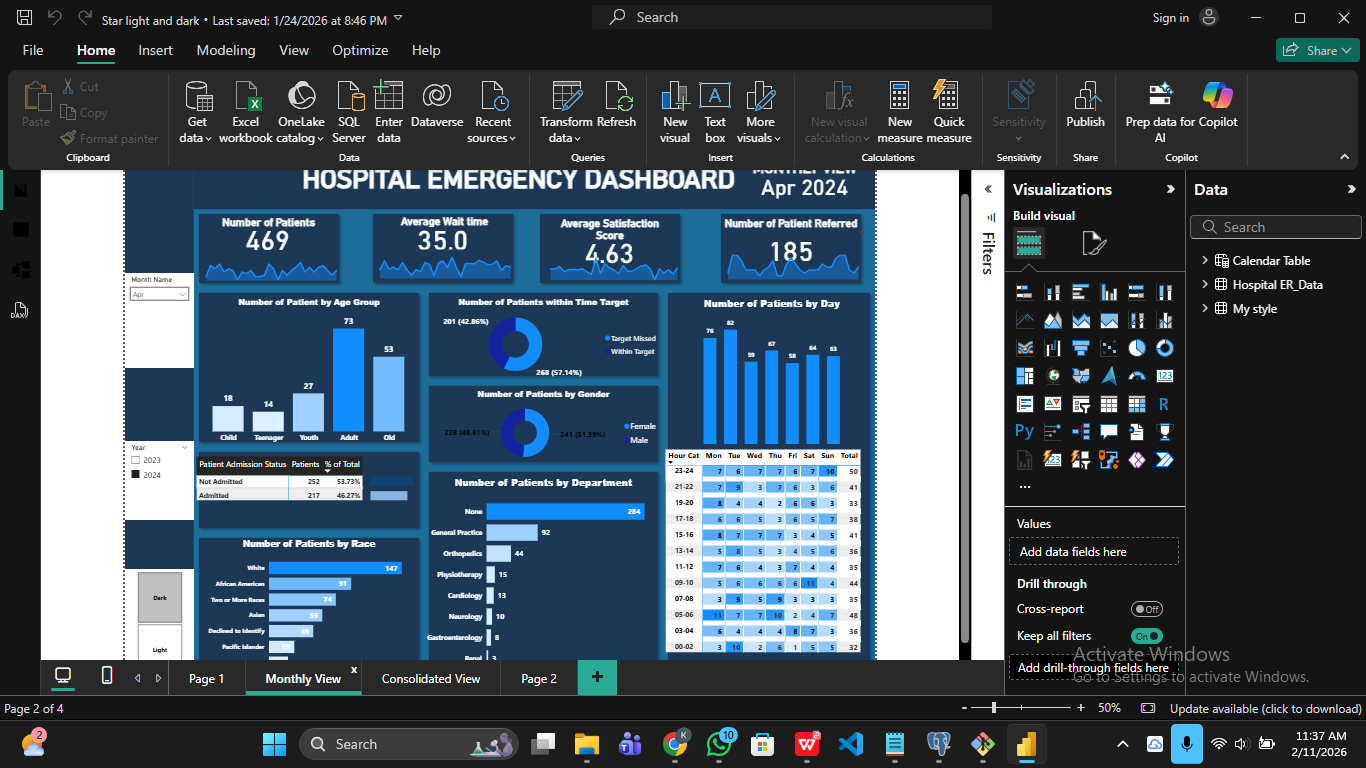

The dashboard page shown, as its layout file describes it:
{"tool":"powerbi","page":{"name":"Monthly View","canvas":[1500,1050],"ordinal":1},"visuals":[{"type":"shape","box":[0,0,1500,1050],"z":0},{"type":"shape","box":[0,0,137.5,1050],"z":1000},{"type":"shape","box":[137.5,0,1362.5,112.5],"z":2000},{"type":"shape","box":[137.5,112.5,300,157.5],"z":3000},{"type":"slicer","fields":{"Values":["My style.Mode"]},"box":[0,832.5,137.5,217.5],"z":4000},{"type":"shape","box":[485,112.5,300,157.5],"z":5000},{"type":"shape","box":[820,112.5,300,157.5],"z":6000},{"type":"shape","box":[1182.5,112.5,300,157.5],"z":7000},{"type":"shape","box":[138,270,460,318],"z":8000},{"type":"shape","box":[138,588,460,172],"z":9000},{"type":"shape","box":[138,760,460,290],"z":10000},{"type":"shape","box":[598,270,478,186],"z":11000},{"type":"shape","box":[598,456,478,172],"z":12000},{"type":"shape","box":[598,628,478,422],"z":13000},{"type":"shape","box":[1076,270,424,780],"z":14000},{"type":"textbox","title":"HOSPITAL EMERGENCY DASHBOARD","box":[350,20,960,75],"z":15000},{"type":"textbox","title":"Number of Patients","box":[175,125,222.5,27.5],"z":16000},{"type":"textbox","title":"Average Wait time","box":[527.5,123,222.5,27.5],"z":17000},{"type":"textbox","title":"Average Satisfaction Score","box":[838,128,264,52],"z":18000},{"type":"textbox","title":"Number of Patient Referred","box":[1182,128,300,40],"z":19000},{"type":"card","fields":{"Values":["Hospital ER_Data.No of Patients"]},"box":[190,138,190,61],"z":20000},{"type":"card","fields":{"Values":["Hospital ER_Data.Avg Waittime"]},"box":[542,138,186,60],"z":21000},{"type":"card","fields":{"Values":["Hospital ER_Data.Satisfaction Score"]},"box":[888,158,162,70],"z":22000},{"type":"card","fields":{"Values":["Hospital ER_Data.No of Patient Referred"]},"box":[1260,158,144,64],"z":23000},{"type":"columnChart","title":"Number of Patient by Age Group","fields":{"Category":["Hospital ER_Data.Age Group"],"Y":["Hospital ER_Data.No of Patient Referred"]},"box":[138,286,460,302],"z":24000},{"type":"pivotTable","fields":{"Rows":["Hospital ER_Data.Patient Admission Status"],"Values":["Hospital ER_Data.No of Patients","Divide(Hospital ER_Data.No of Patients, ScopedEval(Hospital ER_Data.No of Patients, []))"]},"box":[138,602,348,106],"z":25000},{"type":"barChart","fields":{"Category":["Hospital ER_Data.Patient Admission Status"],"Y":["Hospital ER_Data.No of Patients"]},"box":[486,619,112,96],"z":26000},{"type":"barChart","title":"Number of Patients by Department","fields":{"Y":["Hospital ER_Data.No of Patients"],"Category":["Hospital ER_Data.Department Referral"]},"box":[598,644,478,406],"z":27000},{"type":"donutChart","title":"Number of Patients within Time Target","fields":{"Category":["Hospital ER_Data.Timeliness"],"Y":["Hospital ER_Data.No of Patients"]},"box":[598,286,478,170],"z":28000},{"type":"donutChart","title":"Number of Patients by Gender","fields":{"Y":["Hospital ER_Data.No of Patients"],"Category":["Hospital ER_Data.Patient Gender"]},"box":[598,470,478,156],"z":29000},{"type":"barChart","title":"Number of Patients by Race","fields":{"Y":["Hospital ER_Data.No of Patients"],"Category":["Hospital ER_Data.Patient Race"]},"box":[138,768,460,282],"z":30000},{"type":"pivotTable","fields":{"Rows":["Hospital ER_Data.Hour Cat"],"Columns":["Calendar Table.Day Name"],"Values":["Hospital ER_Data.No of Patients"]},"box":[1076,588,424,462],"z":31000},{"type":"columnChart","title":"Number of Patients by Day","fields":{"Category":["Calendar Table.Day Name"],"Y":["Hospital ER_Data.No of Patients"]},"box":[1152,286,284,302],"z":32000},{"type":"areaChart","fields":{"Category":["Calendar Table.Date.Variation.Date Hierarchy.Day"],"Y":["Hospital ER_Data.No of Patients"]},"box":[138,192,300,68],"z":33000},{"type":"slicer","fields":{"Values":["Calendar Table.Year"]},"box":[0,576,138,158],"z":34000},{"type":"slicer","fields":{"Values":["Calendar Table.Month Name"]},"box":[0,240,138,190],"z":35000},{"type":"areaChart","fields":{"Category":["Calendar Table.Date.Variation.Date Hierarchy.Day"],"Y":["Hospital ER_Data.Avg Waittime Figure"]},"box":[486,188,300,68],"z":36000},{"type":"areaChart","fields":{"Category":["Calendar Table.Date.Variation.Date Hierarchy.Day"],"Y":["Hospital ER_Data.Satisfaction Score"]},"box":[818,192,302,68],"z":37000},{"type":"areaChart","fields":{"Category":["Calendar Table.Date.Variation.Date Hierarchy.Day"],"Y":["Hospital ER_Data.No of Patient Referred"]},"box":[1182,190,300,68],"z":38000},{"type":"textbox","title":"MONTHLY VIEW","box":[1238,12,244,36],"z":39000},{"type":"card","fields":{"Values":["Min(Calendar Table.Month Year)"]},"box":[1248,32,222,64],"z":40000}]}

Visuals, with their boxes on the page's 1500x1050 design canvas (x1, y1, x2, y2). These are canvas units, not pixel positions in the 1366x768 screenshot, which may show the page scaled, cropped or inside an application window:
shape: detection(0, 0, 1500, 1050)
shape: detection(0, 0, 138, 1050)
shape: detection(138, 0, 1500, 112)
shape: detection(138, 112, 438, 270)
slicer - My style.Mode: detection(0, 832, 138, 1050)
shape: detection(485, 112, 785, 270)
shape: detection(820, 112, 1120, 270)
shape: detection(1182, 112, 1482, 270)
shape: detection(138, 270, 598, 588)
shape: detection(138, 588, 598, 760)
shape: detection(138, 760, 598, 1050)
shape: detection(598, 270, 1076, 456)
shape: detection(598, 456, 1076, 628)
shape: detection(598, 628, 1076, 1050)
shape: detection(1076, 270, 1500, 1050)
"HOSPITAL EMERGENCY DASHBOARD" textbox: detection(350, 20, 1310, 95)
"Number of Patients" textbox: detection(175, 125, 398, 152)
"Average Wait time" textbox: detection(528, 123, 750, 150)
"Average Satisfaction Score" textbox: detection(838, 128, 1102, 180)
"Number of Patient Referred" textbox: detection(1182, 128, 1482, 168)
card - Hospital ER_Data.No of Patients: detection(190, 138, 380, 199)
card - Hospital ER_Data.Avg Waittime: detection(542, 138, 728, 198)
card - Hospital ER_Data.Satisfaction Score: detection(888, 158, 1050, 228)
card - Hospital ER_Data.No of Patient Referred: detection(1260, 158, 1404, 222)
"Number of Patient by Age Group" columnChart: detection(138, 286, 598, 588)
pivotTable - Hospital ER_Data.Patient Admission Status x Hospital ER_Data.No of Patients: detection(138, 602, 486, 708)
barChart - Hospital ER_Data.Patient Admission Status x Hospital ER_Data.No of Patients: detection(486, 619, 598, 715)
"Number of Patients by Department" barChart: detection(598, 644, 1076, 1050)
"Number of Patients within Time Target" donutChart: detection(598, 286, 1076, 456)
"Number of Patients by Gender" donutChart: detection(598, 470, 1076, 626)
"Number of Patients by Race" barChart: detection(138, 768, 598, 1050)
pivotTable - Hospital ER_Data.Hour Cat x Calendar Table.Day Name: detection(1076, 588, 1500, 1050)
"Number of Patients by Day" columnChart: detection(1152, 286, 1436, 588)
areaChart - Calendar Table.Date.Variation.Date Hierarchy.Day x Hospital ER_Data.No of Patients: detection(138, 192, 438, 260)
slicer - Calendar Table.Year: detection(0, 576, 138, 734)
slicer - Calendar Table.Month Name: detection(0, 240, 138, 430)
areaChart - Calendar Table.Date.Variation.Date Hierarchy.Day x Hospital ER_Data.Avg Waittime Figure: detection(486, 188, 786, 256)
areaChart - Calendar Table.Date.Variation.Date Hierarchy.Day x Hospital ER_Data.Satisfaction Score: detection(818, 192, 1120, 260)
areaChart - Calendar Table.Date.Variation.Date Hierarchy.Day x Hospital ER_Data.No of Patient Referred: detection(1182, 190, 1482, 258)
"MONTHLY VIEW" textbox: detection(1238, 12, 1482, 48)
card - Min(Calendar Table.Month Year): detection(1248, 32, 1470, 96)
